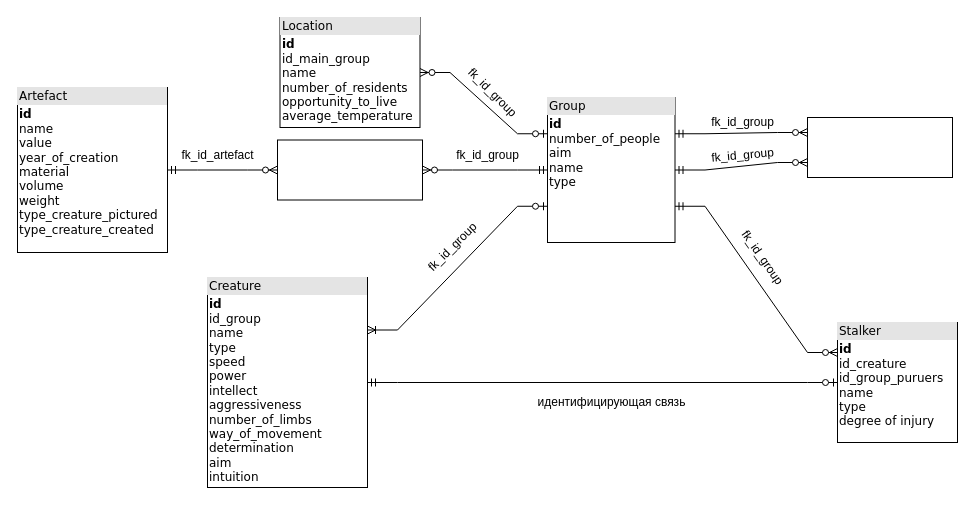
Some shapes in this 975 by 505 pixel diagram are drawn without their labels. The centre of each missing label's shape, as x and y in pixels:
"group_artefact id_group id_artefact" goes at pixel 349 169.
"group_group id_group1 id_group2" goes at pixel 879 147.
